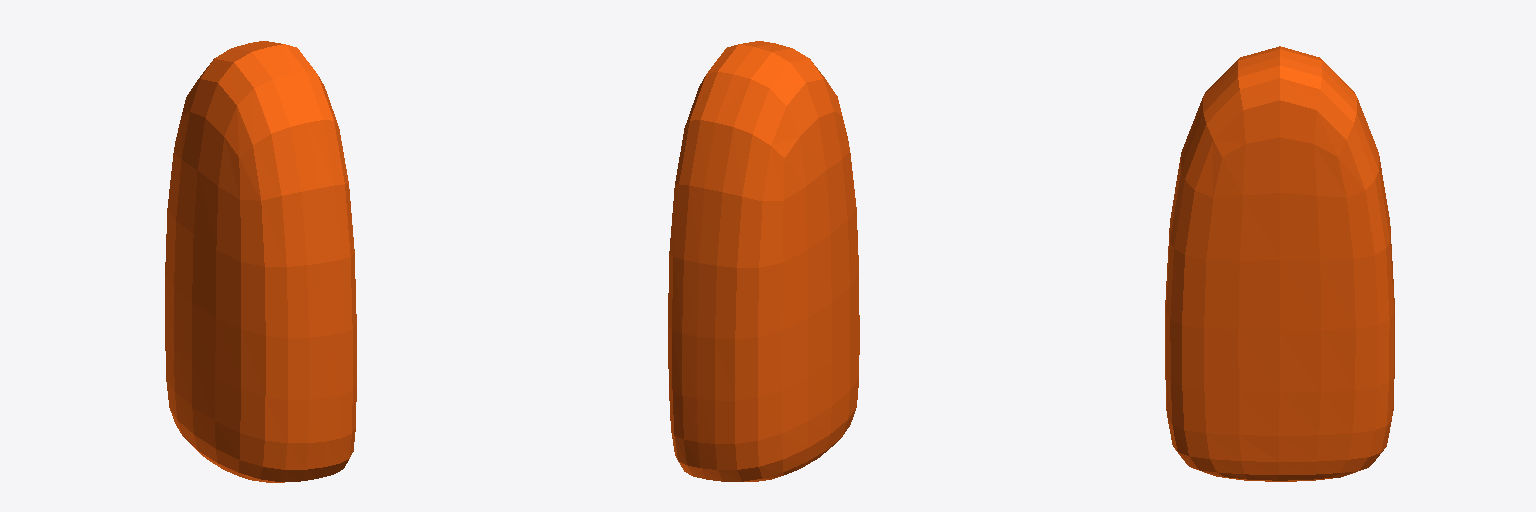
Rendered from Ohren.obj.
3 renders of one model, left to right at view 1: azimuth 30°, elevation 25°; view 2: azimuth 150°, elevation 25°; view 3: azimuth 270°, elevation 25°, orthographic.
Visible parts, largest first — view 1: Cube; view 2: Cube; view 3: Cube.
Boxes of the visible parts, box(x1,y1,x2,y2) form: Cube: box(165, 41, 356, 482); Cube: box(668, 41, 859, 481); Cube: box(1165, 46, 1394, 481).
Bounding box in the file's own units: 1.28 × 3.92 × 1.99.